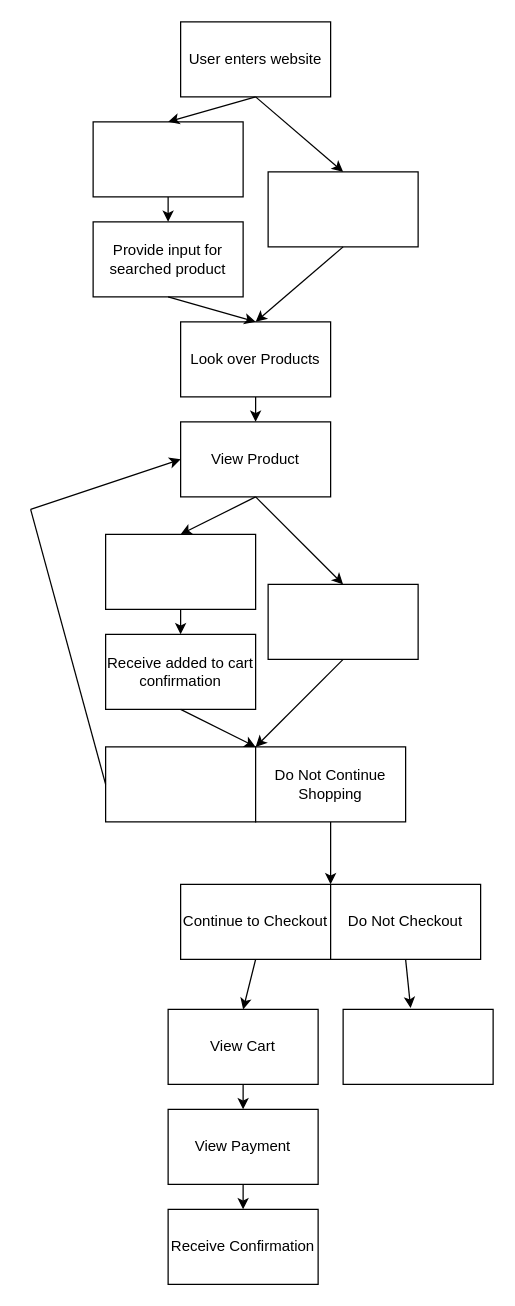
Some shapes in this 515 by 1306 pixel diagram are drawn without their labels. Here are the shapes that lost their labels. From the top down, the centre of each, then its label:
At [167,159]: "Search for a Product".
At [342,209]: "Explore Products".
At [180,571]: "Add to Cart".
At [342,621]: "View item details / product webpage".
At [180,784]: "Continue Shopping".
At [417,1046]: "Leave Website".
